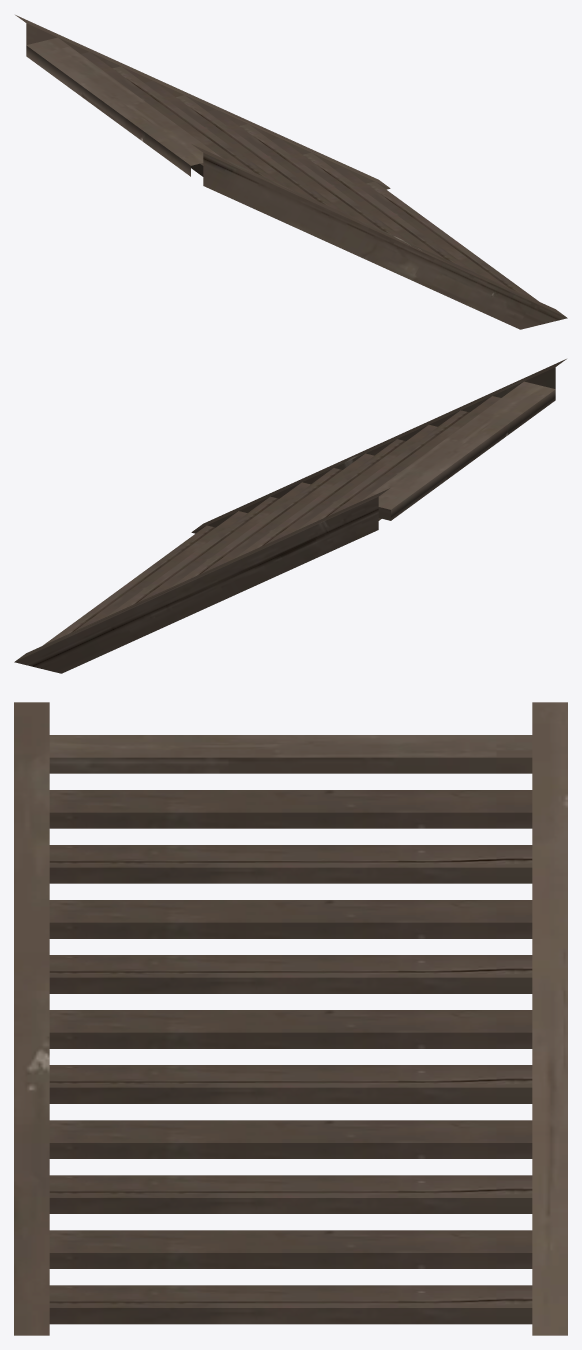
The picture shows the model from 3 angles, top to bottom: view 1: azimuth 30°, elevation 25°; view 2: azimuth 150°, elevation 25°; view 3: azimuth 270°, elevation 25°; orthographic projection. The views are drawn at different scales.
Visible parts, largest first — view 1: body0_model0_lod0_mesh0; view 2: body0_model0_lod0_mesh0; view 3: body0_model0_lod0_mesh0.
Part boxes in pixels (left/top/right/bottom): body0_model0_lod0_mesh0: left=15, top=15, right=567, bottom=329; body0_model0_lod0_mesh0: left=14, top=359, right=566, bottom=673; body0_model0_lod0_mesh0: left=14, top=702, right=567, bottom=1335.
Size of the model in its own units: 138 by 92.01 by 124.
Materials: 1 (1 with a texture image).
